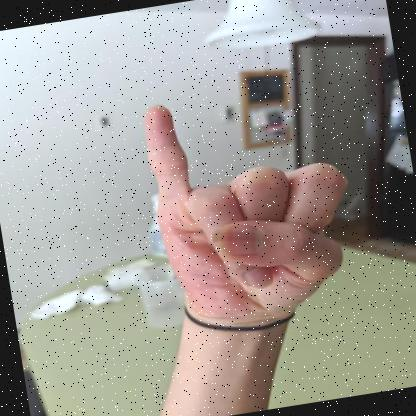I: (143, 103, 347, 343)
